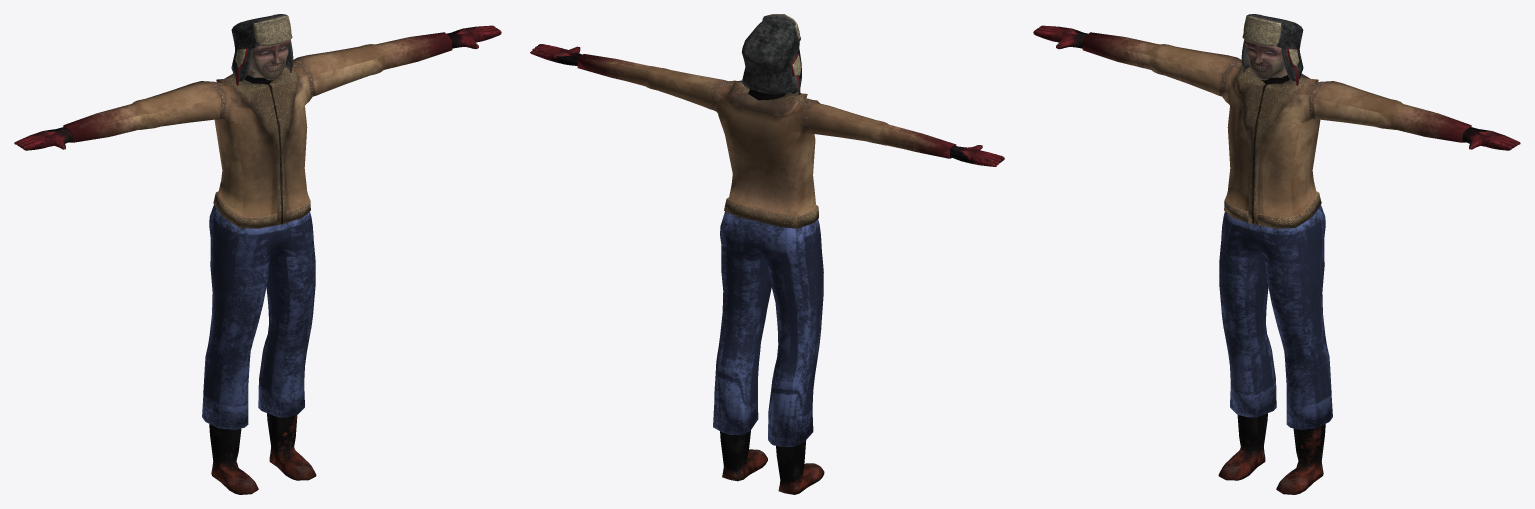
The model's file is Ivan.fbx.
3 views of the same model, side by side, from view 1: azimuth 30°, elevation 25°; view 2: azimuth 150°, elevation 25°; view 3: azimuth 330°, elevation 25° (orthographic). The views are drawn at different scales.
Visible parts, largest first — view 1: Cube.003, Cube.004, Cube.005, Circle.001, Cube, Cube.001; view 2: Cube.004, Cube.003, Circle.001, Cube.005, Cube; view 3: Cube.003, Cube.004, Cube.005, Circle.001, Cube, Cube.001.
Boxes of the visible parts, left/top/right/bottom form: Cube.003: left=63, top=32, right=452, bottom=228; Cube.004: left=202, top=205, right=315, bottom=429; Cube.005: left=209, top=413, right=316, bottom=494; Circle.001: left=231, top=14, right=293, bottom=85; Cube: left=14, top=25, right=501, bottom=150; Cube.001: left=247, top=40, right=290, bottom=80; Cube.004: left=713, top=211, right=823, bottom=446; Cube.003: left=577, top=54, right=956, bottom=228; Circle.001: left=741, top=14, right=801, bottom=94; Cube.005: left=720, top=430, right=824, bottom=494; Cube: left=530, top=44, right=1004, bottom=166; Cube.003: left=1082, top=32, right=1471, bottom=228; Cube.004: left=1219, top=205, right=1332, bottom=429; Cube.005: left=1218, top=413, right=1325, bottom=494; Circle.001: left=1241, top=14, right=1303, bottom=85; Cube: left=1033, top=25, right=1520, bottom=150; Cube.001: left=1244, top=40, right=1287, bottom=80.
Bounding box in the file's own units: 2.34 × 2.18 × 0.3453.
Materials: 7 (6 with a texture image).
